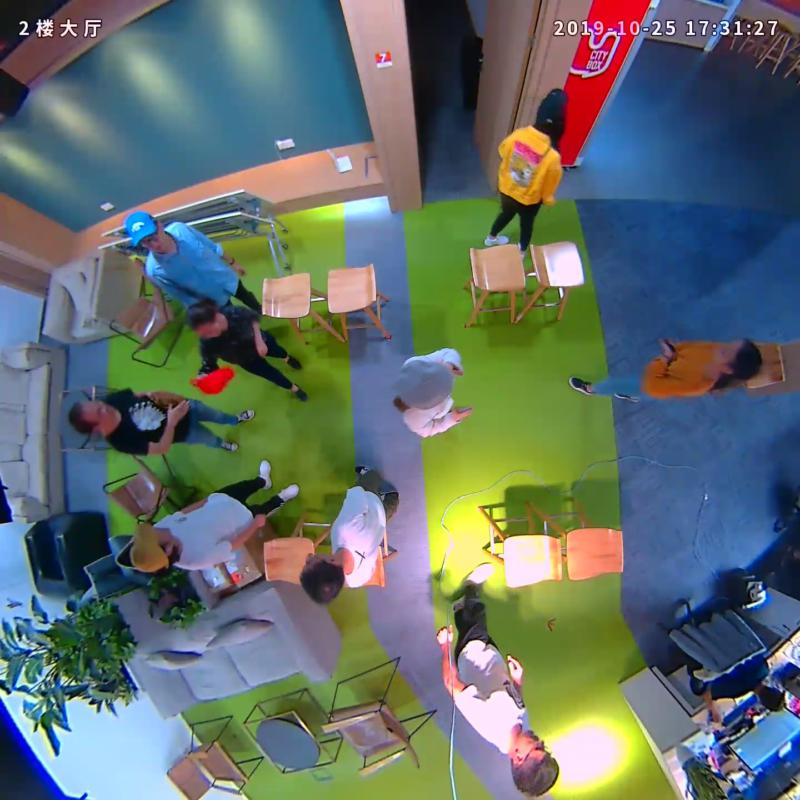head: (510, 729, 559, 797), (395, 357, 453, 410), (704, 336, 761, 383), (129, 522, 176, 574), (299, 553, 345, 605), (125, 211, 168, 256), (67, 397, 110, 434), (536, 87, 569, 132), (184, 302, 222, 339)
